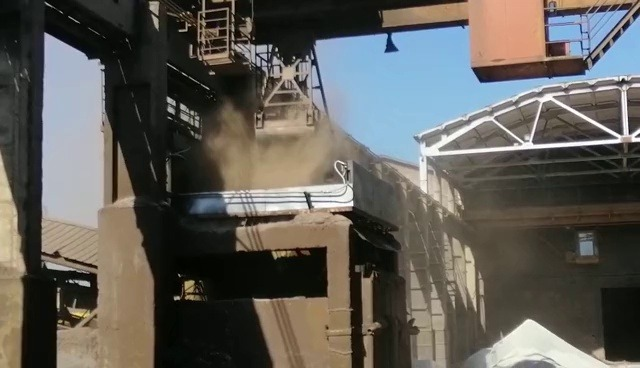dust: (218, 105, 553, 352)
grab: (246, 31, 328, 145)
